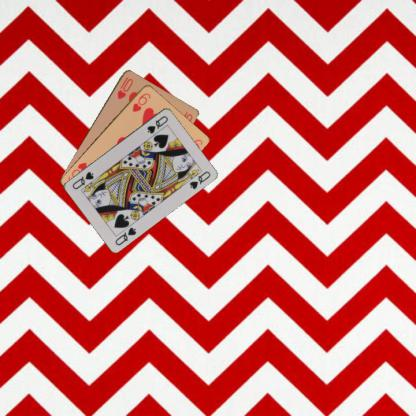10h: (114, 74, 134, 100)
6h: (129, 90, 152, 113)
Qs: (112, 224, 138, 247), (144, 112, 170, 134)
